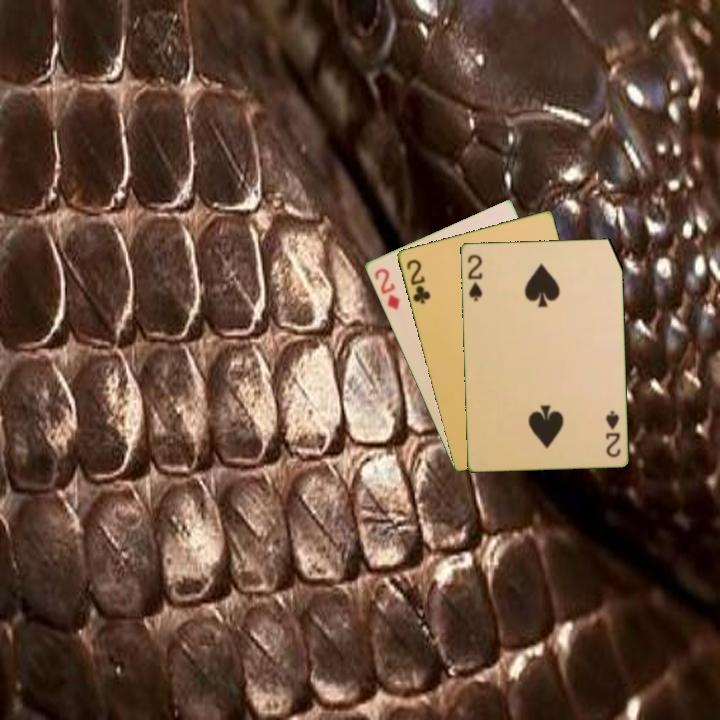2c: (403, 255, 433, 307)
2d: (370, 264, 402, 312)
2s: (464, 251, 485, 304), (602, 407, 623, 460)
